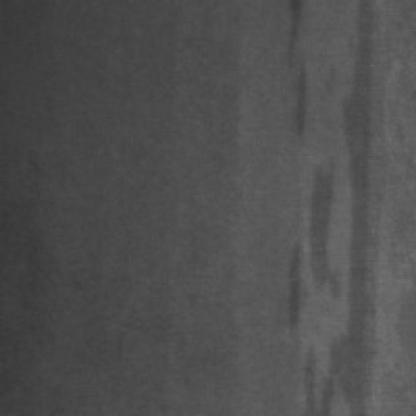inclusion: (335, 0, 380, 410), (281, 149, 339, 328), (281, 0, 314, 137), (300, 343, 341, 412)
